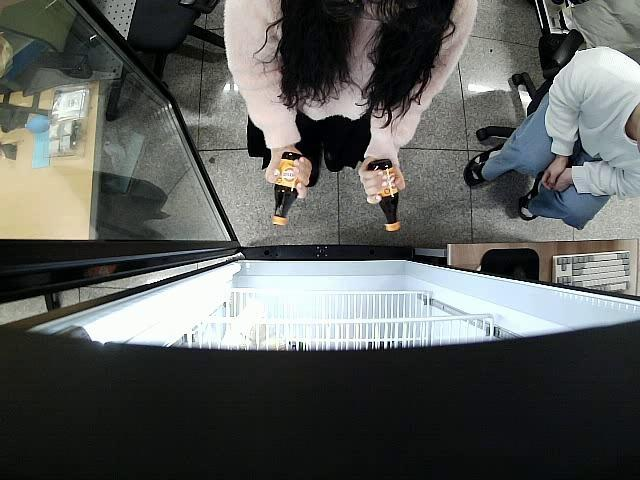17_vita500: (368, 159, 402, 232), (271, 152, 302, 225)
